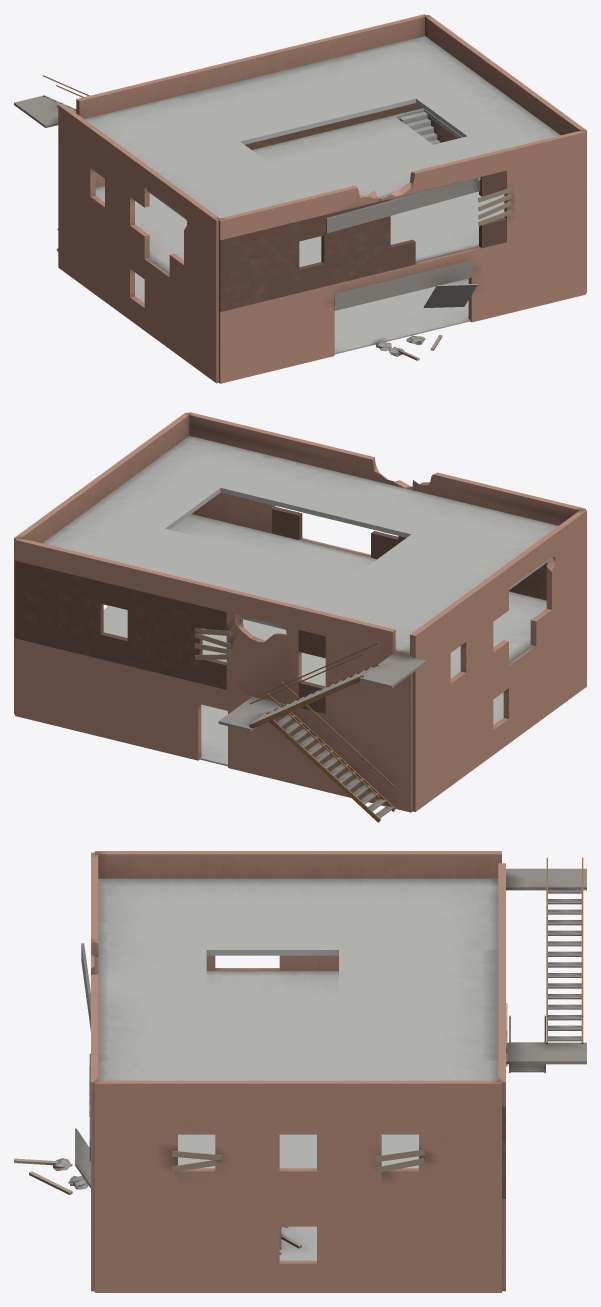
Rendered from loja_r2.glb.
3 views of the same model, one above another, from view 1: azimuth 30°, elevation 25°; view 2: azimuth 150°, elevation 25°; view 3: azimuth 270°, elevation 25° (orthographic). The views are drawn at different scales.
Parts seen in each view (by area): view 1: teto, ext1_0, ext_0, laje1, ext_3, ext1_3, mureta_2, mureta_0, chao, mureta_3, mureta_1, porta_aco (+7 smaller); view 2: teto, ext1_2, ext_2, ext_3, ext1_3, mureta_2, laje1, mureta_0, escada_incendio, mureta_3, mureta_1, ext1_0 (+4 smaller); view 3: teto, ext_1, ext1_1, laje1, mureta_1, mureta_3, escada_incendio, mureta_0, mureta_2, patamar_0, patamar_1, chao (+5 smaller).
Boxes of the visible parts, box(x1,y1,x2,y2) form: teto: box(84, 36, 560, 219); ext1_0: box(219, 151, 585, 311); ext_0: box(219, 223, 585, 383); laje1: box(95, 108, 504, 274); ext_3: box(58, 196, 218, 383); ext1_3: box(58, 124, 218, 311); mureta_2: box(76, 14, 426, 118); mureta_0: box(218, 130, 585, 240); chao: box(135, 272, 470, 354); mureta_3: box(58, 104, 220, 239); mureta_1: box(424, 14, 586, 149); porta_aco: box(334, 260, 472, 310); teto: box(42, 436, 558, 653); ext1_2: box(15, 560, 412, 734); ext_2: box(15, 638, 412, 812); ext_3: box(412, 609, 586, 811); ext1_3: box(412, 531, 586, 734); mureta_2: box(15, 538, 395, 652); laje1: box(103, 514, 546, 686); mureta_0: box(187, 412, 585, 525); escada_incendio: box(249, 642, 395, 822); mureta_3: box(410, 509, 586, 656); mureta_1: box(14, 412, 189, 558); ext1_0: box(192, 487, 547, 600); teto: box(98, 878, 498, 1080); ext_1: box(94, 1200, 501, 1292); ext1_1: box(94, 1108, 501, 1200); laje1: box(178, 970, 418, 1168); mureta_1: box(94, 1080, 501, 1108); mureta_3: box(94, 851, 501, 878); escada_incendio: box(509, 857, 583, 1072); mureta_0: box(91, 852, 98, 1106); mureta_2: box(498, 863, 505, 1106); patamar_0: box(506, 1042, 586, 1064); patamar_1: box(506, 868, 586, 890); chao: box(279, 1226, 316, 1260).
Size of what is drawn, in the model's own units: 16.76 by 7.81 by 16.88.
